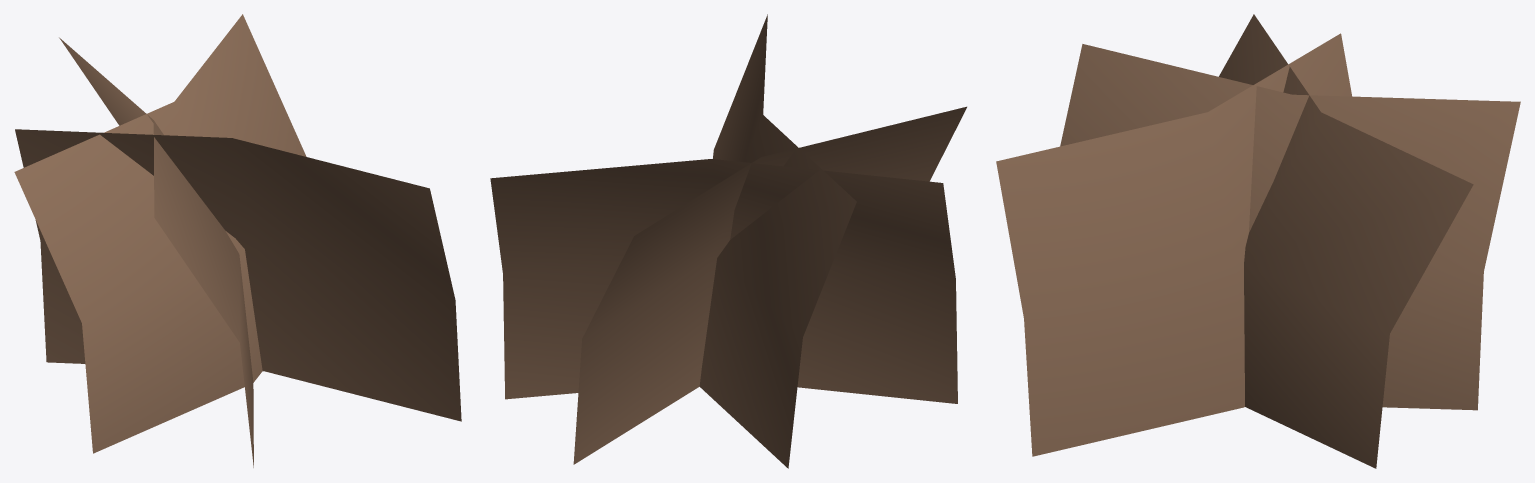
File: GrassPlanes_b_TwoS_07.fbx
The picture shows the model from 3 angles, left to right: view 1: azimuth 30°, elevation 25°; view 2: azimuth 150°, elevation 25°; view 3: azimuth 270°, elevation 25°; orthographic projection. The views are drawn at different scales.
Visible parts, largest first — view 1: GrassPlanes_b_TwoS_07; view 2: GrassPlanes_b_TwoS_07; view 3: GrassPlanes_b_TwoS_07.
Part boxes in pixels (bbox=[...]): GrassPlanes_b_TwoS_07: bbox=[14, 14, 461, 467]; GrassPlanes_b_TwoS_07: bbox=[490, 14, 966, 468]; GrassPlanes_b_TwoS_07: bbox=[996, 14, 1520, 468].
Bounding box in the file's own units: 72.8 × 49.08 × 86.35.
